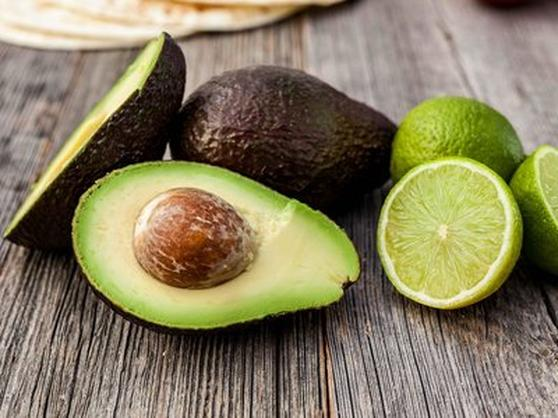avocado: (177, 62, 396, 215)
